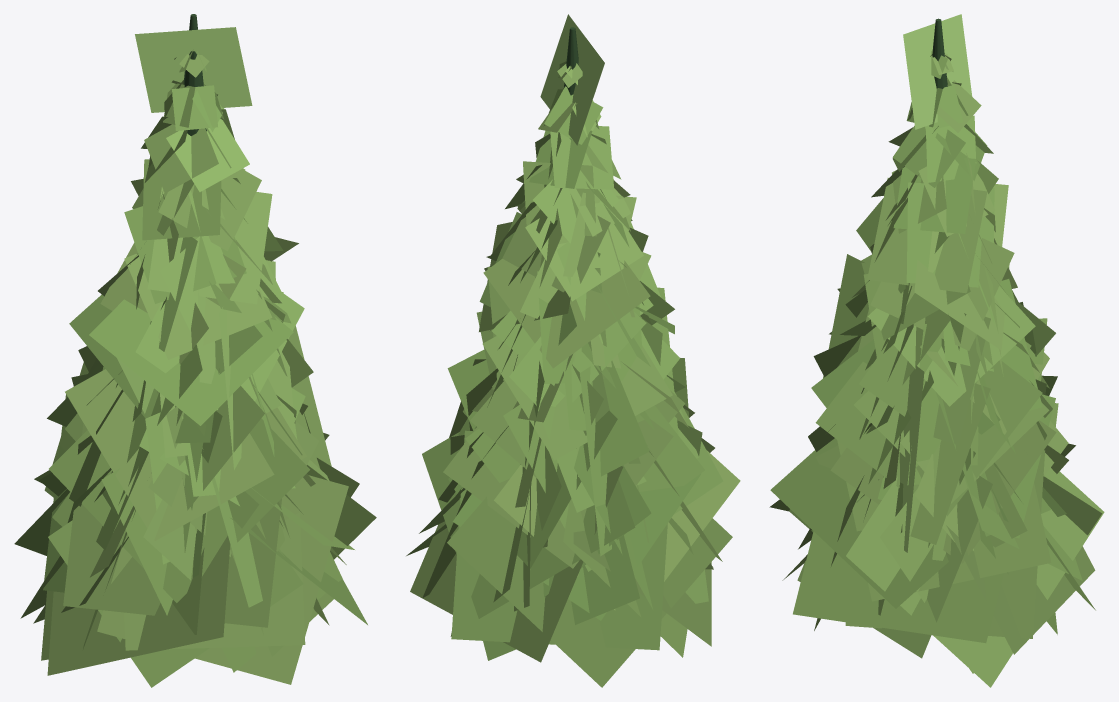
The model's file is tree_pine_1.glb.
3 views of the same model, side by side, from view 1: azimuth 30°, elevation 25°; view 2: azimuth 150°, elevation 25°; view 3: azimuth 270°, elevation 25° (orthographic). The views are drawn at different scales.
Visible parts, largest first — view 1: Pine; view 2: Pine; view 3: Pine.
Part boxes in pixels (<box>): Pine: <box>14,14,376,687</box>; Pine: <box>406,14,740,687</box>; Pine: <box>769,14,1104,687</box>.
Size of the model in its own units: 5.74 by 11.93 by 5.84.
